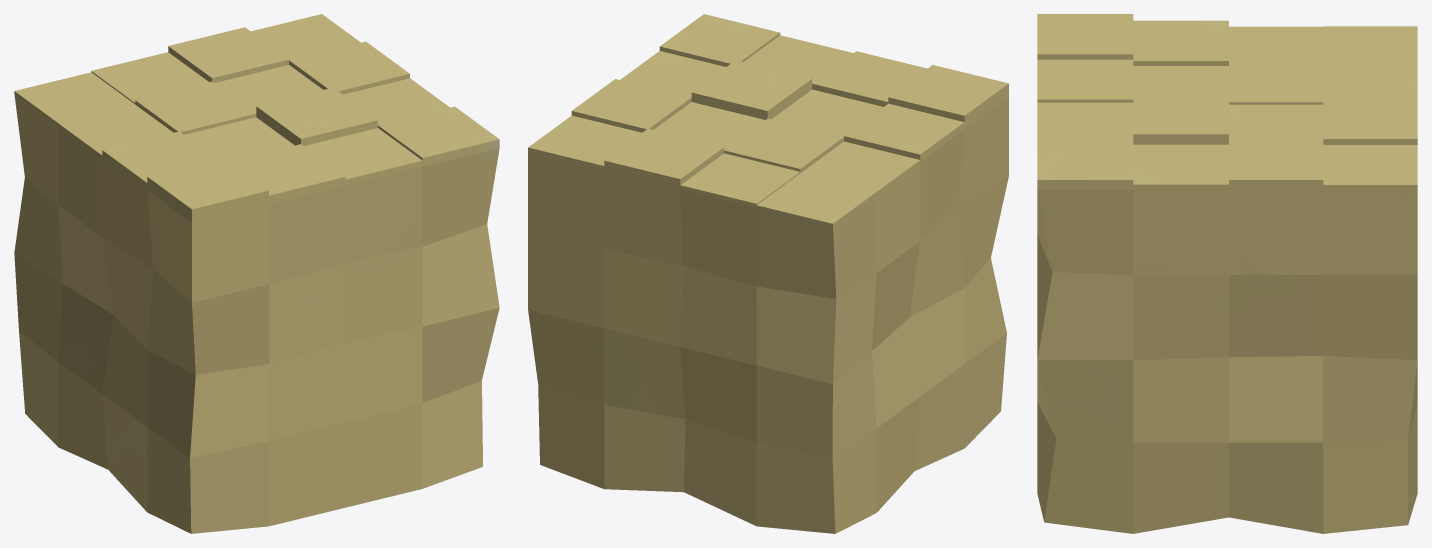
Rendered from sand.glb.
3 renders of one model, left to right at view 1: azimuth 30°, elevation 25°; view 2: azimuth 150°, elevation 25°; view 3: azimuth 270°, elevation 25°, orthographic. The views are drawn at different scales.
Parts seen in each view (by area): view 1: Cube; view 2: Cube; view 3: Cube.
Boxes of the visible parts, <box> form: Cube: <box>14,14,499,533</box>; Cube: <box>528,14,1008,533</box>; Cube: <box>1037,14,1417,533</box>.
Bounding box in the file's own units: 1 × 1.04 × 1.
Materials: 1 (1 with a texture image).
